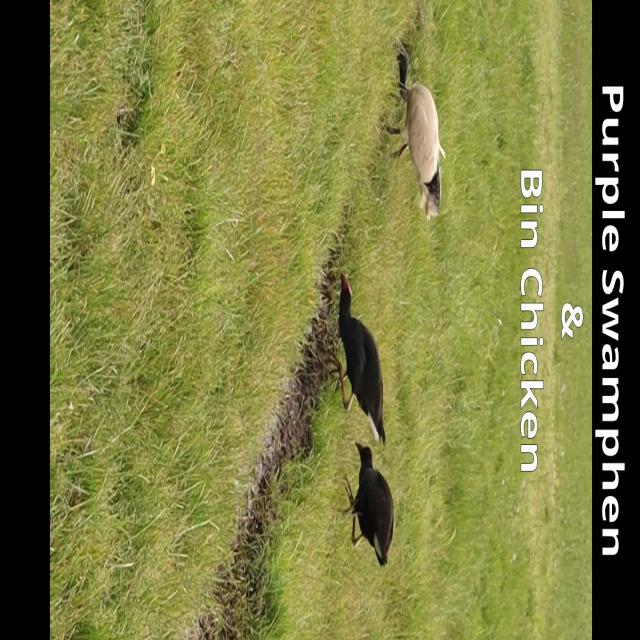Birds-Ibis: (378, 44, 448, 222)
Birds-Other: (326, 270, 385, 447), (338, 442, 394, 569)
